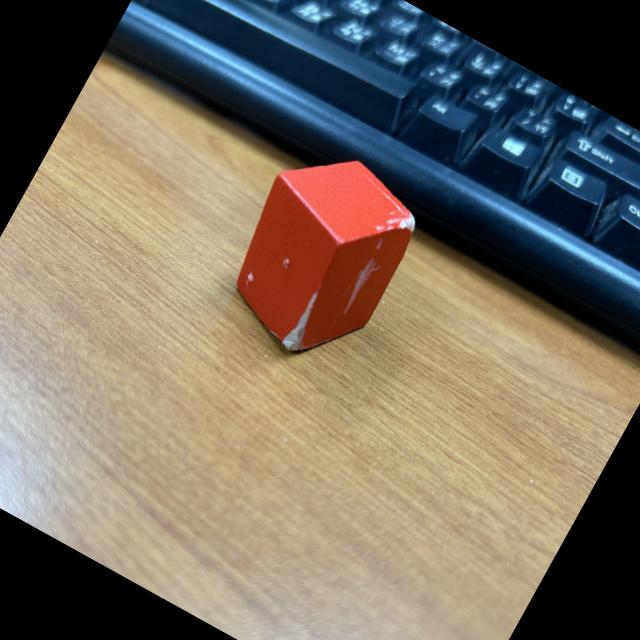broken: (202, 128, 436, 382)
